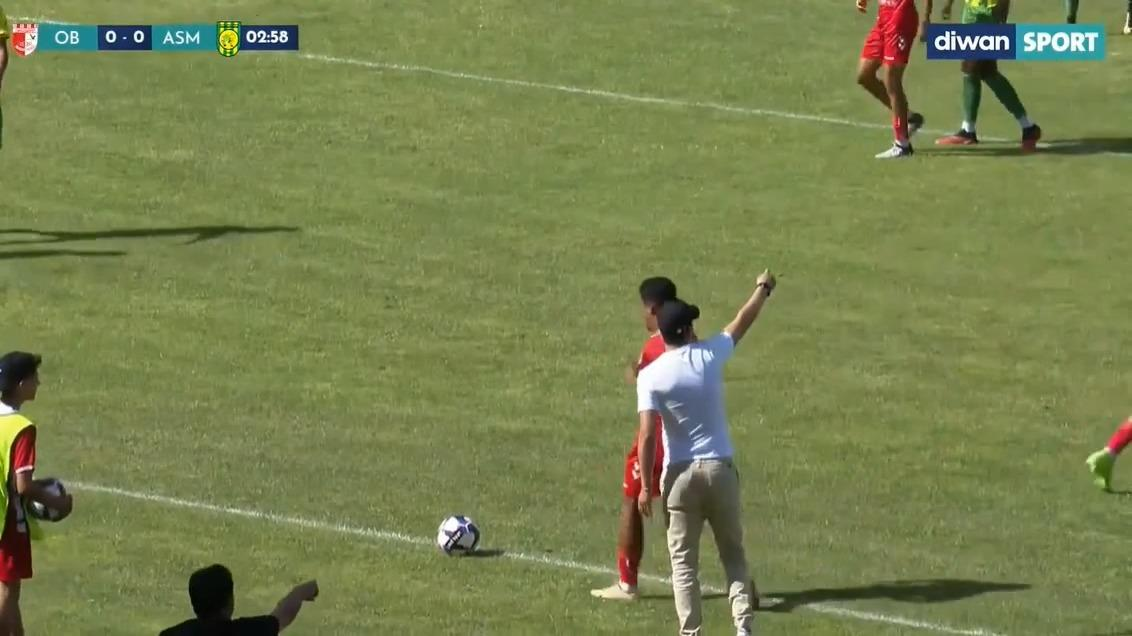ball: (422, 505, 494, 572)
